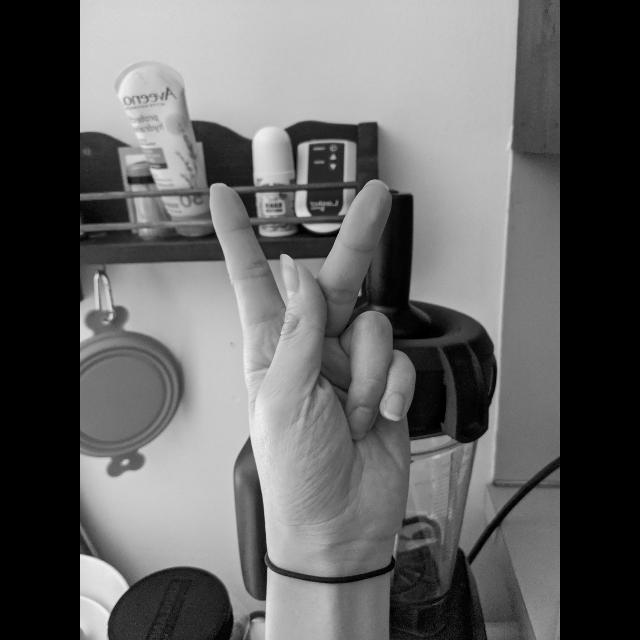K: (203, 175, 425, 560)
